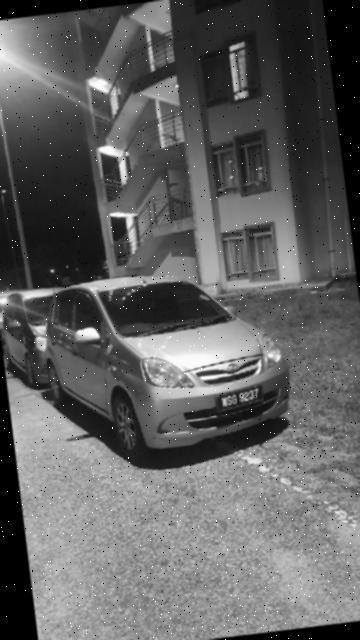License_Plate: (212, 383, 266, 411)
car: (37, 259, 299, 468)
